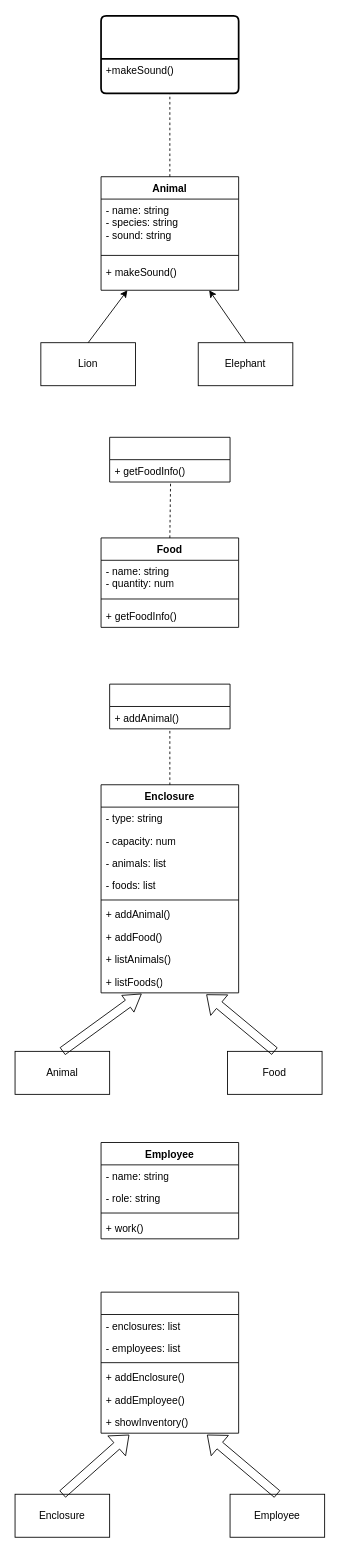
Some shapes in this 340 by 1552 pixel diagram are drawn without their labels. Each missing label, with the box of its shape:
IAnimal: (100, 15, 239, 94)
IEnclosure: (109, 683, 230, 729)
IFood: (109, 436, 230, 482)
ZooInventory: (100, 1291, 239, 1433)
